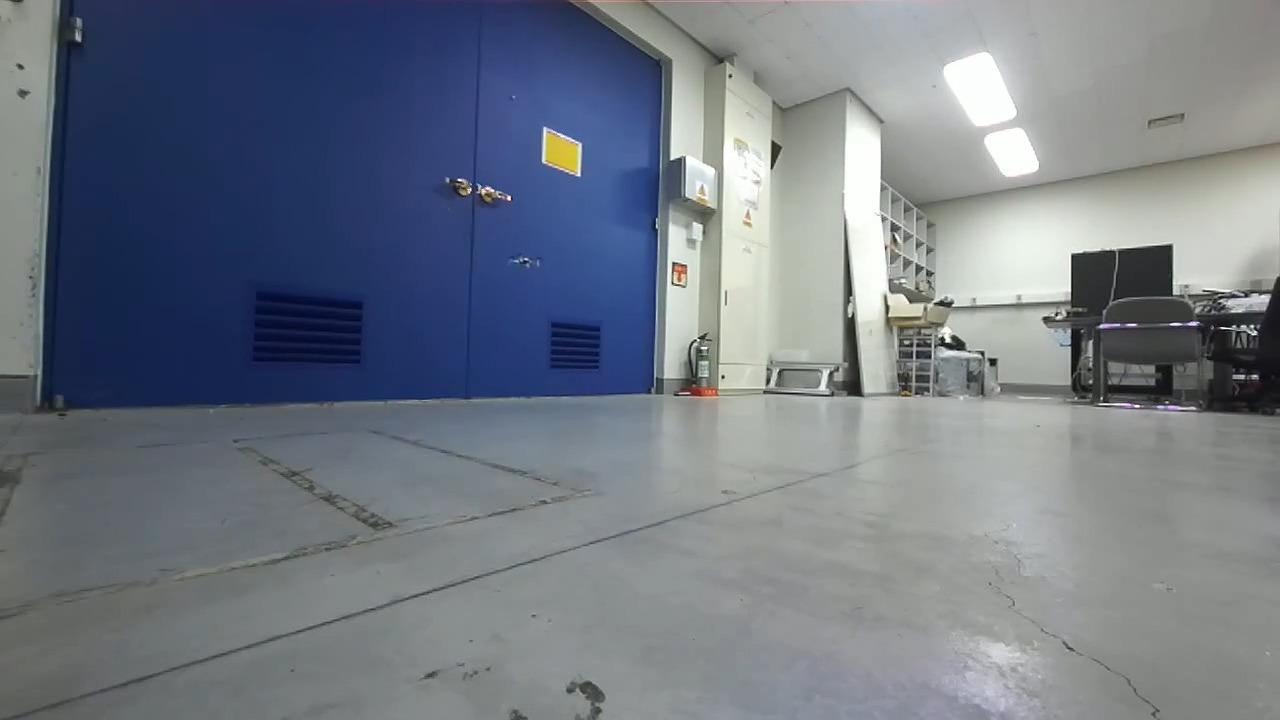crazyflie: (501, 246, 552, 276)
